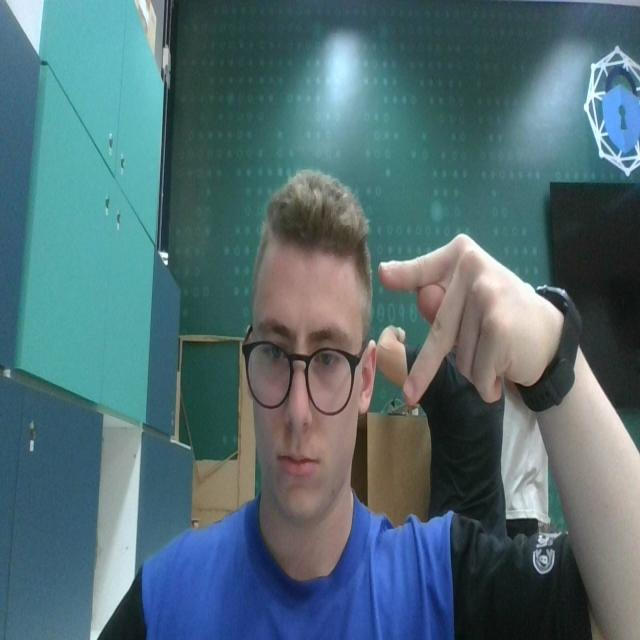P: (374, 228, 543, 414)
